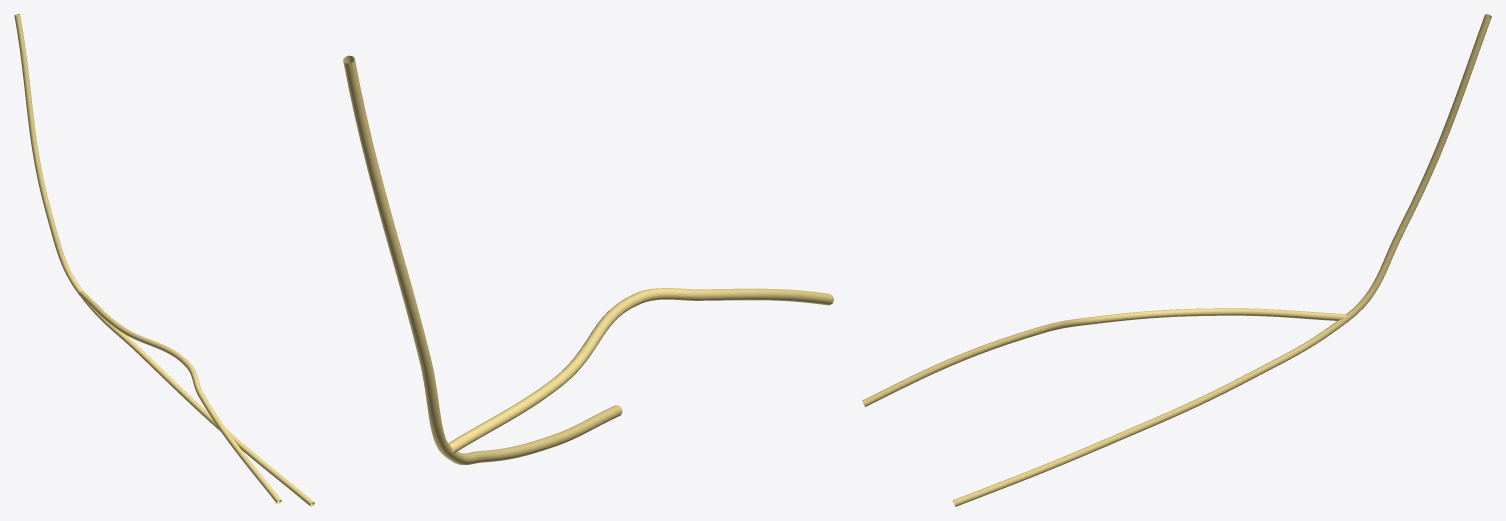
3 views of the same model, side by side, from view 1: azimuth 30°, elevation 25°; view 2: azimuth 150°, elevation 25°; view 3: azimuth 270°, elevation 25° (orthographic). The views are drawn at different scales.
Visible parts, largest first — view 1: ZA_861708d3ea68a73f; view 2: ZA_861708d3ea68a73f; view 3: ZA_861708d3ea68a73f.
Boxes of the visible parts, x1,y1,x2,y2 form: ZA_861708d3ea68a73f: (14,14,314,506); ZA_861708d3ea68a73f: (343,55,833,465); ZA_861708d3ea68a73f: (862,14,1491,506).
Size of the model in its own units: 0.0174 by 0.066 by 0.0851.
